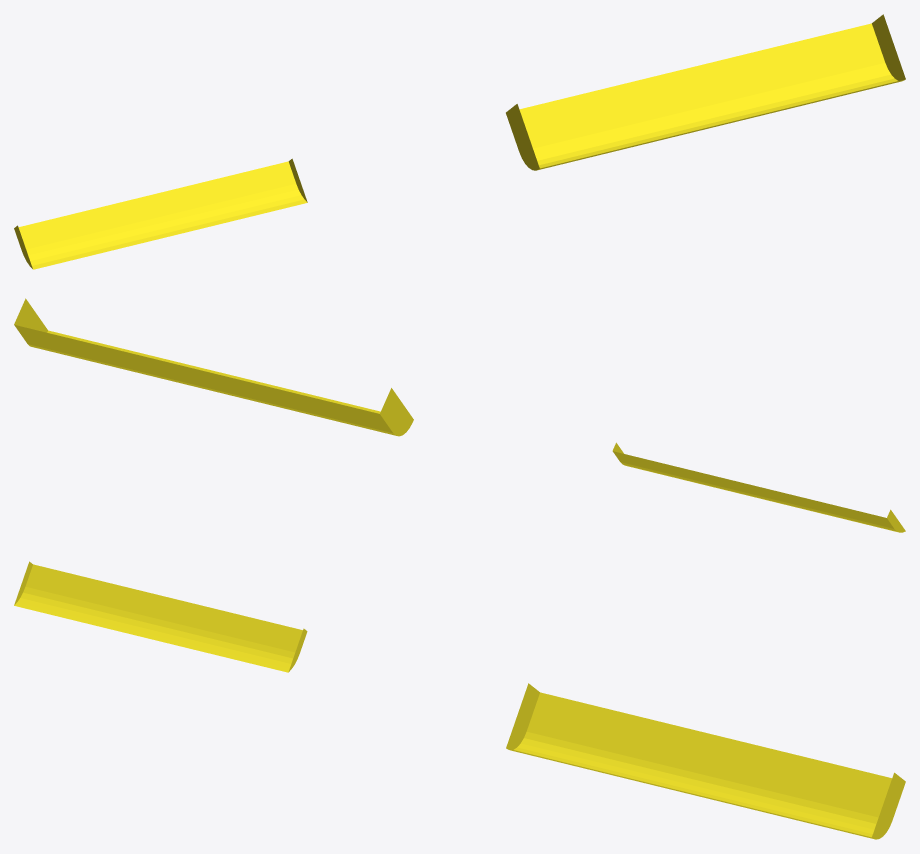
File: zatana_terra_base_vis_102.dae
The picture shows the model from 3 angles, top to bottom: view 1: azimuth 30°, elevation 25°; view 2: azimuth 150°, elevation 25°; view 3: azimuth 330°, elevation 25°; orthographic projection.
Parts seen in each view (by area): view 1: Node_000002318374C350; view 2: Node_000002318374C350; view 3: Node_000002318374C350.
Part boxes in pixels (x1,y1,x2,y2): Node_000002318374C350: (14,14,905,269); Node_000002318374C350: (14,298,905,532); Node_000002318374C350: (14,561,905,839).
Size of the model in its own units: 0.0899 by 0.00556 by 0.00616.
